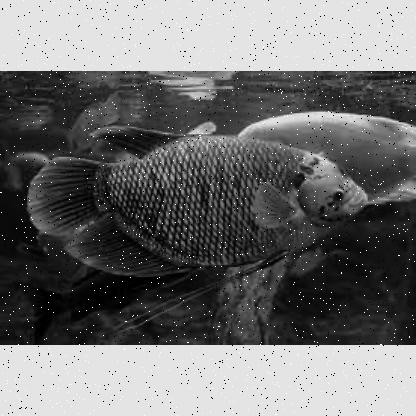gurame: (29, 129, 366, 275)
